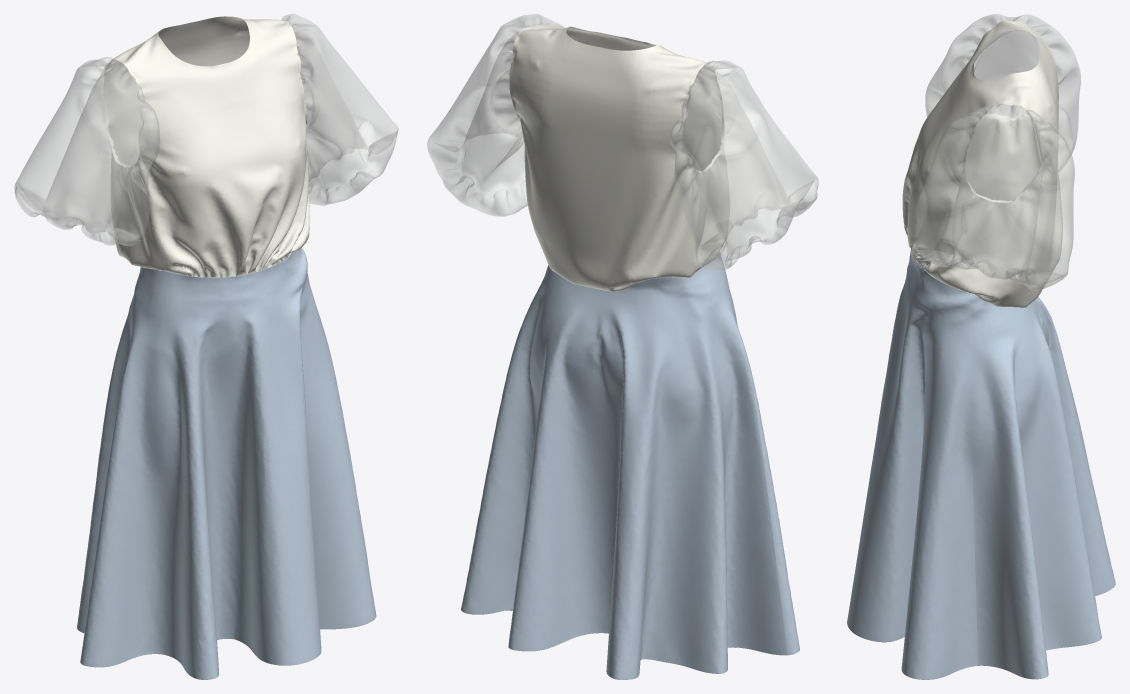
Rendered from asset.gltf.
3 renders of one model, left to right at view 1: azimuth 30°, elevation 25°; view 2: azimuth 150°, elevation 25°; view 3: azimuth 270°, elevation 25°, orthographic. The views are drawn at different scales.
Parts seen in each view (by area): view 1: Cloth; view 2: Cloth; view 3: Cloth.
Boxes of the visible parts, box(x1,y1,x2,y2) form: Cloth: box(14, 14, 398, 679); Cloth: box(427, 14, 818, 679); Cloth: box(847, 14, 1115, 679).
Size of the model in its own units: 0.6626 by 1.04 by 0.4399.
3 materials, 3 textured.
